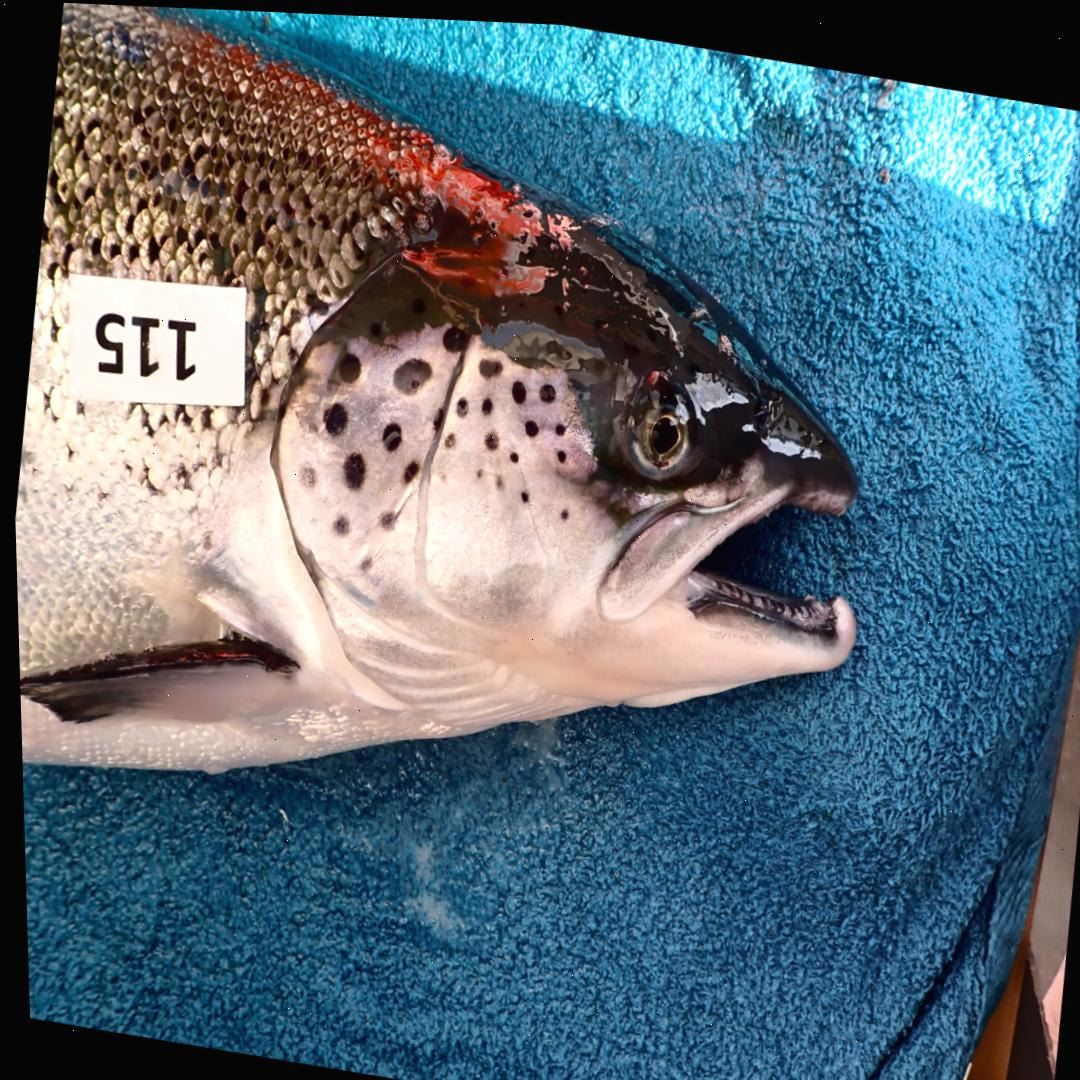spot: (389, 354, 429, 389), (331, 347, 359, 380), (339, 448, 362, 486), (320, 398, 344, 433), (439, 320, 464, 347), (378, 418, 399, 448), (327, 510, 348, 534), (476, 352, 499, 372), (295, 460, 313, 485), (374, 505, 395, 526), (507, 374, 523, 398), (352, 549, 371, 569), (399, 457, 415, 479), (480, 425, 496, 446), (535, 378, 552, 396), (429, 402, 441, 425), (521, 414, 534, 432), (440, 428, 453, 445), (452, 394, 464, 412), (432, 464, 446, 479), (477, 393, 488, 410), (555, 501, 566, 516), (491, 467, 500, 485), (552, 444, 563, 457), (516, 483, 525, 498), (552, 418, 561, 430), (505, 446, 514, 458), (472, 462, 481, 473)
